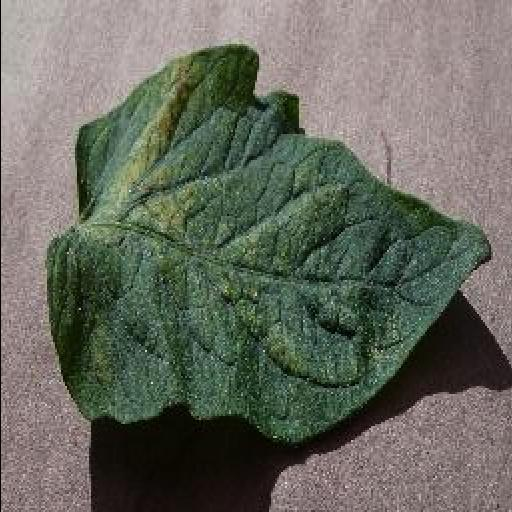disease_tomato: (44, 46, 492, 444)
